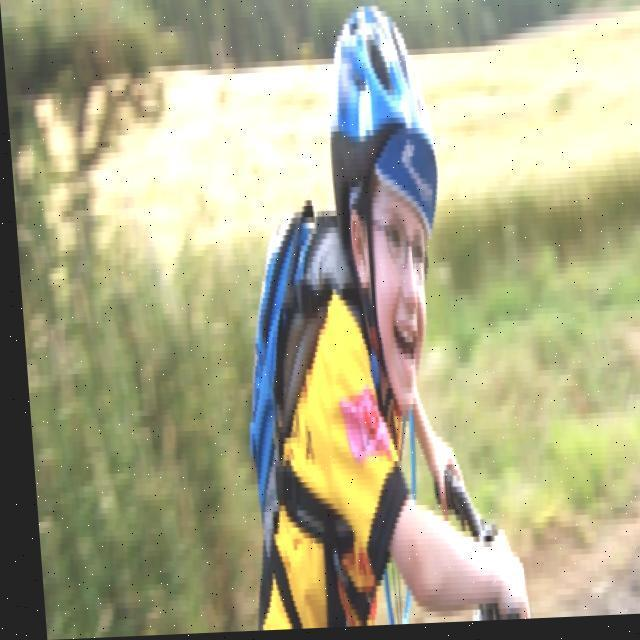Helmet: (316, 2, 452, 427)
